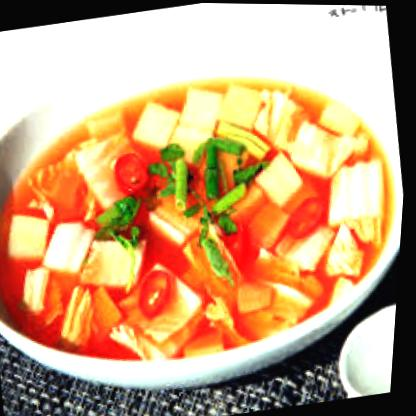nabak Kimchi: (0, 49, 412, 399)
